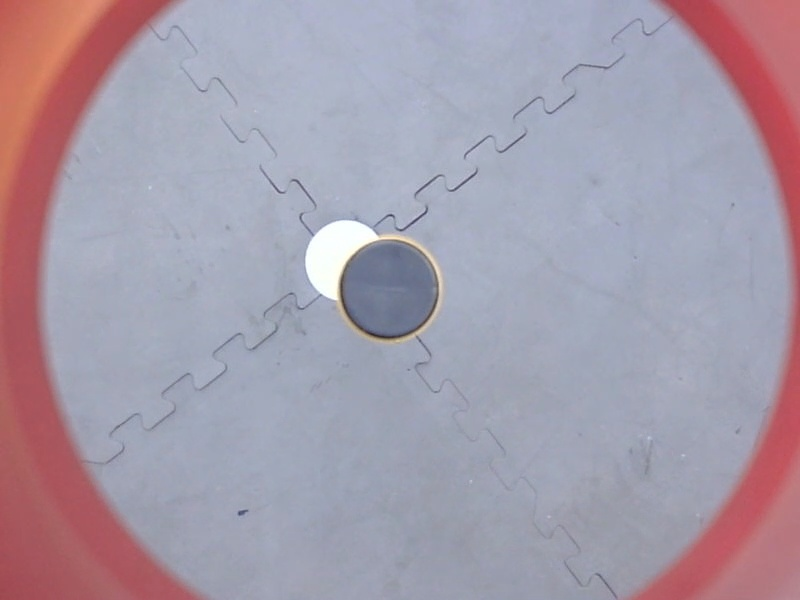tip: (333, 232, 448, 347)
